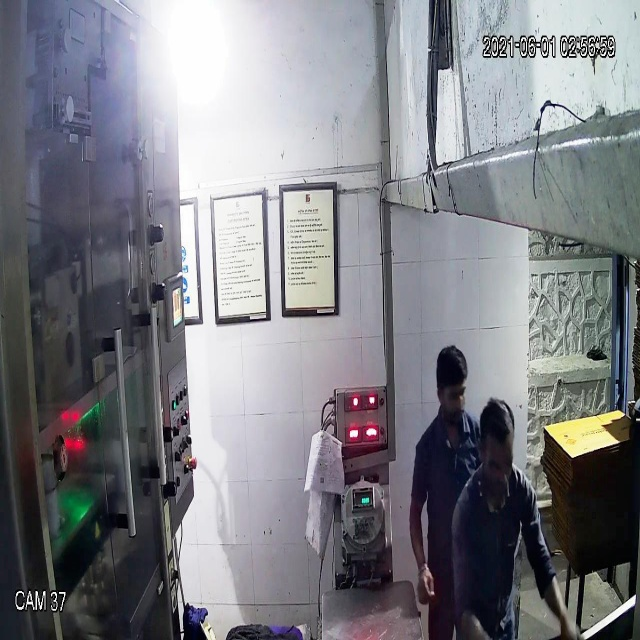Sin_gafas: (436, 380, 471, 408)
